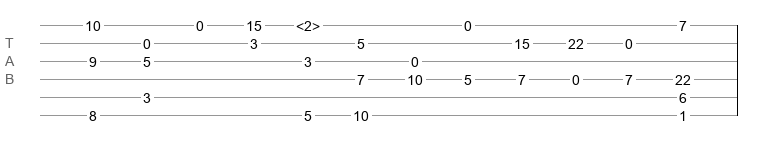0: (143, 36, 151, 46), (196, 18, 204, 28), (411, 54, 419, 64), (464, 18, 472, 28), (572, 72, 580, 82), (625, 36, 633, 46)
1: (679, 108, 687, 118)
10: (85, 18, 101, 28), (353, 108, 369, 118), (407, 72, 423, 82)
15: (246, 18, 262, 28), (514, 36, 530, 46)
22: (568, 36, 584, 46), (675, 72, 691, 82)
3: (143, 90, 151, 100), (250, 36, 258, 46), (304, 54, 312, 64)
5: (143, 54, 151, 64), (304, 108, 312, 118), (357, 36, 365, 46), (464, 72, 472, 82)
6: (679, 90, 687, 100)
7: (357, 72, 365, 82), (518, 72, 526, 82), (625, 72, 633, 82), (679, 18, 687, 28)
8: (89, 108, 97, 118)
9: (89, 54, 97, 64)
harmonic: (296, 18, 320, 28)
